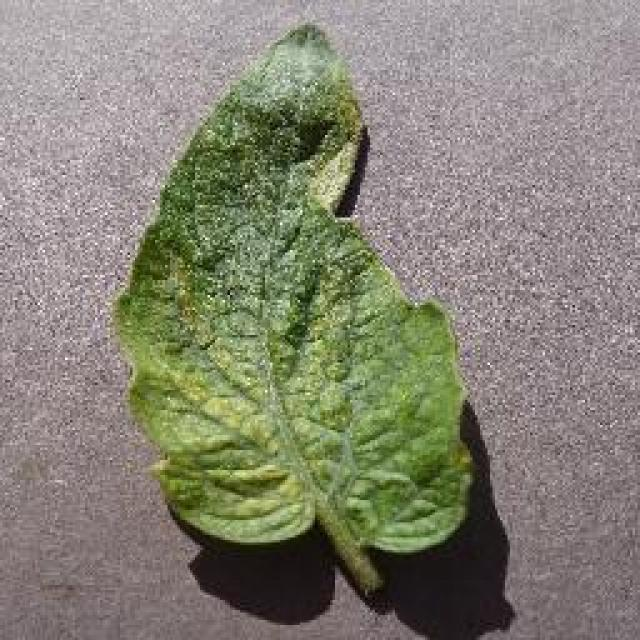Tomato spider mites leaf: (108, 19, 477, 558)
